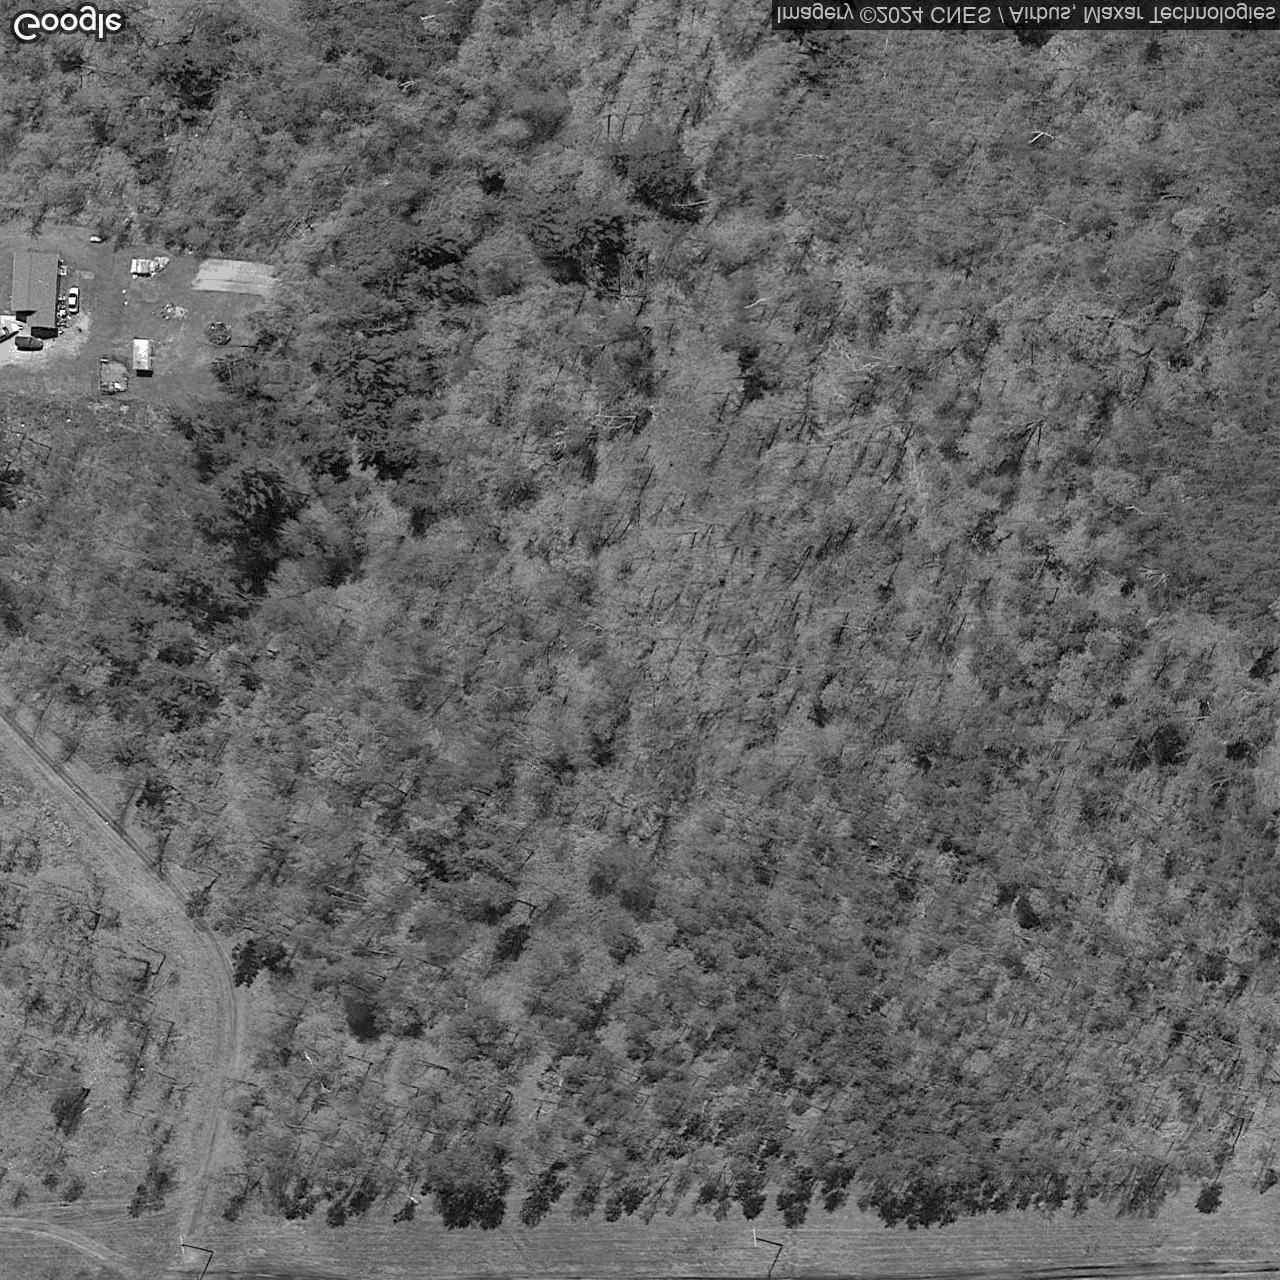House: (9, 251, 60, 329)
Propane: (88, 234, 110, 244)
